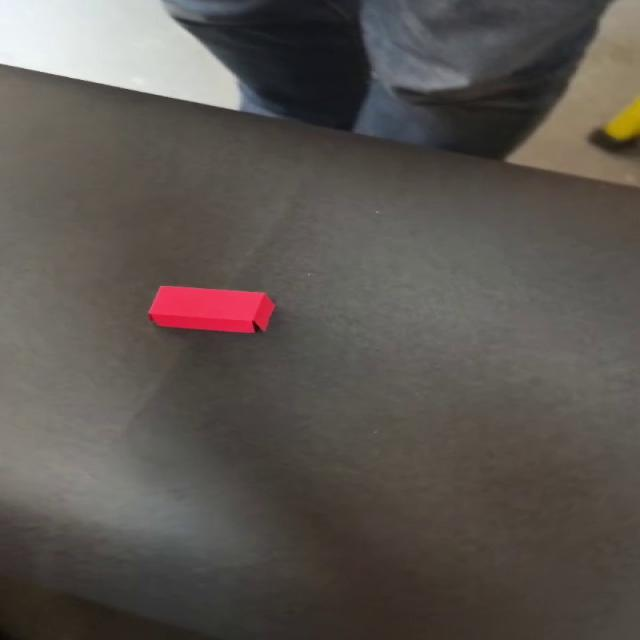red block: (146, 284, 274, 334)
